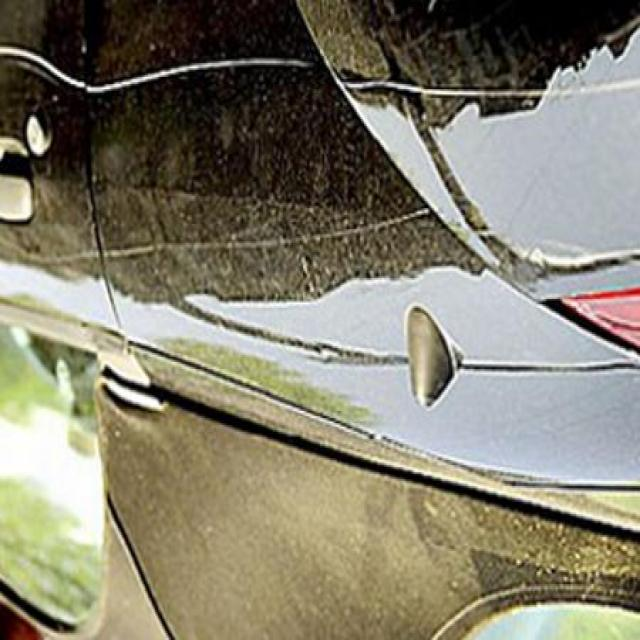scratch: (8, 35, 320, 114), (344, 62, 606, 130)
